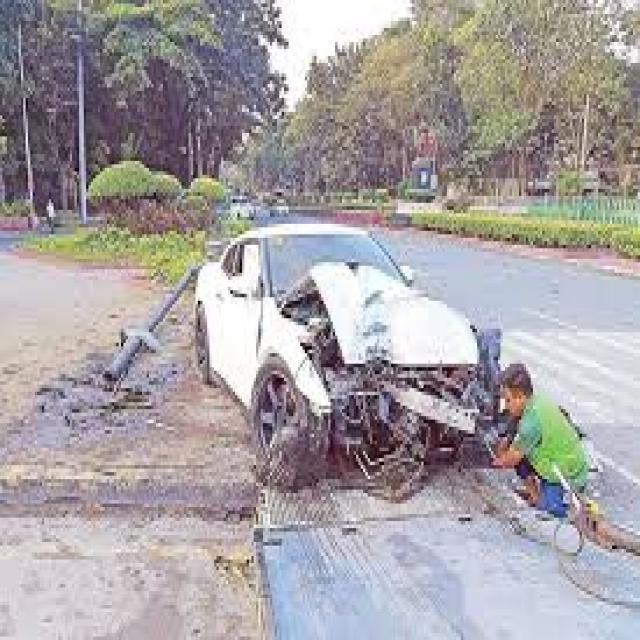accident: (160, 228, 497, 511)
